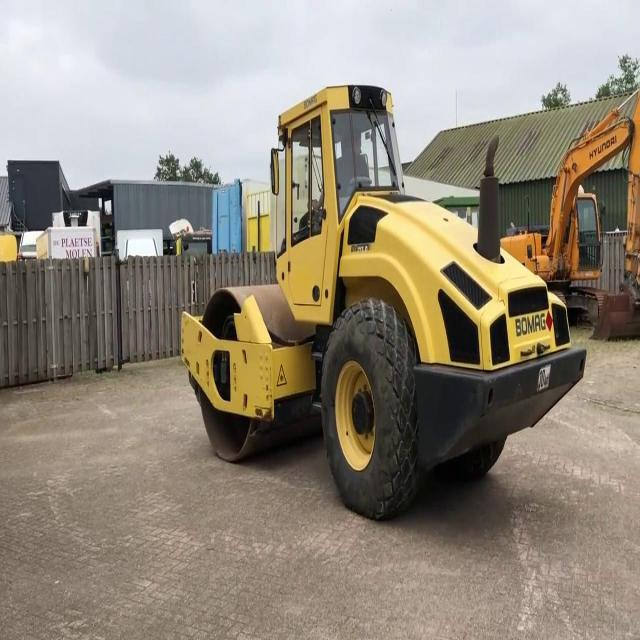Excavator: (500, 87, 638, 330)
Roller: (195, 80, 583, 496)
